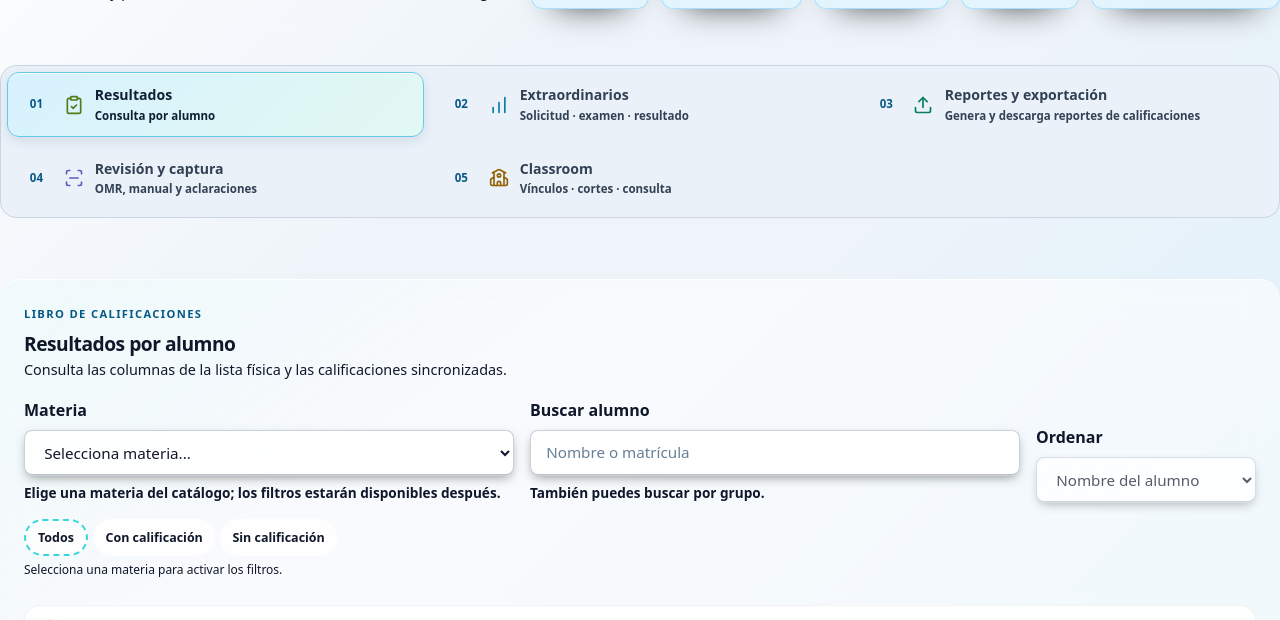
Test: ruta Classroom desde Calificaciones › explica que no hay periodos disponibles y desactiva la generación de HTML
Click the button "Reportes y exportación" at coordinates (1065, 105), box x1=856 y1=72 x2=1273 y2=137
(page scrolled)
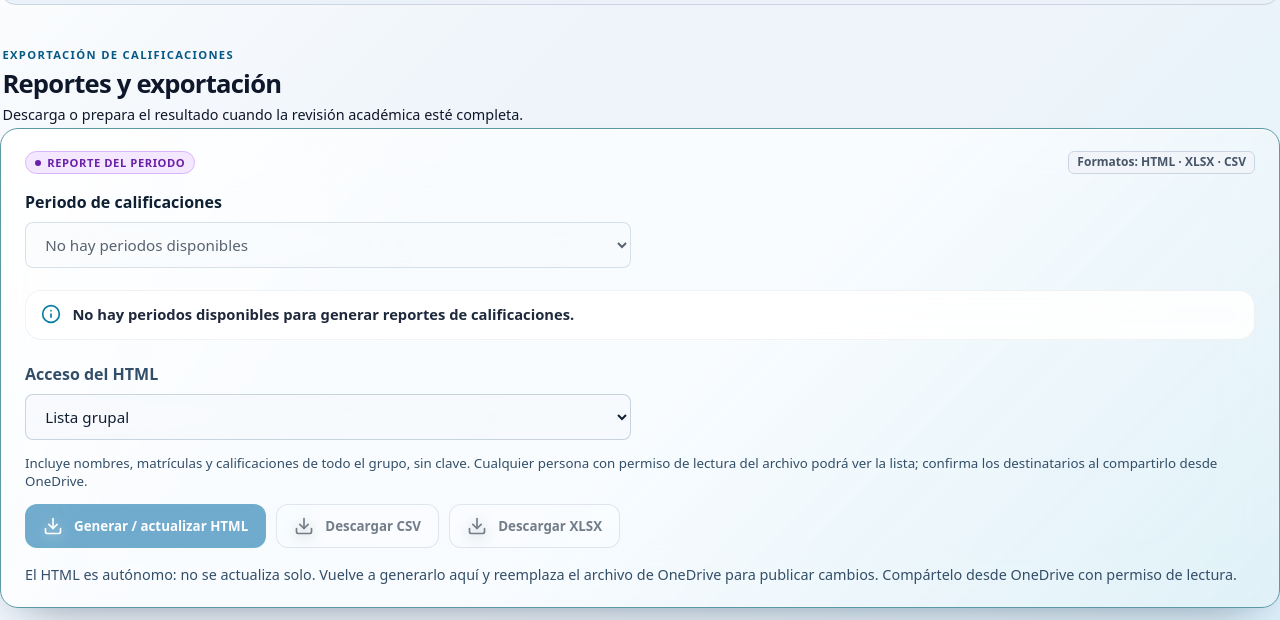
Check: the text "No hay periodos disponibles para generar reportes de calificaciones." is shown, box x1=72 y1=304 x2=574 y2=324
Check: the dropdown labelled "Periodo de calificaciones" is disabled, box x1=25 y1=222 x2=631 y2=268
Check: the button "Generar / actualizar HTML" is disabled, box x1=25 y1=504 x2=266 y2=548
